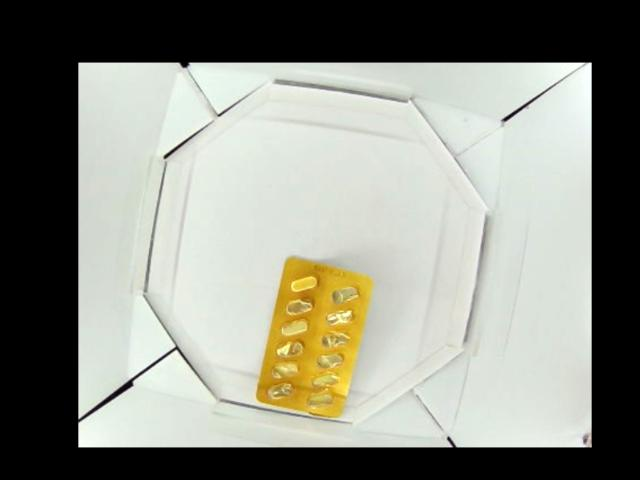Medicine: (254, 253, 372, 420)
